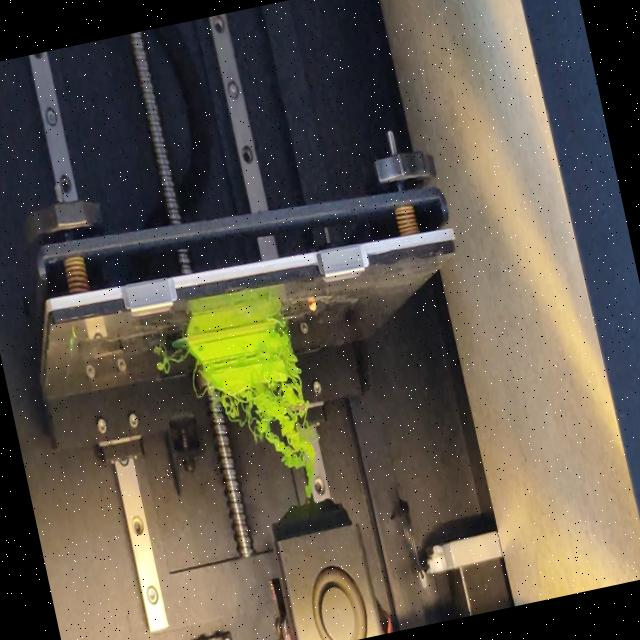spaghetti: (209, 372, 328, 514), (272, 314, 300, 378), (152, 344, 194, 375), (187, 369, 204, 405)
